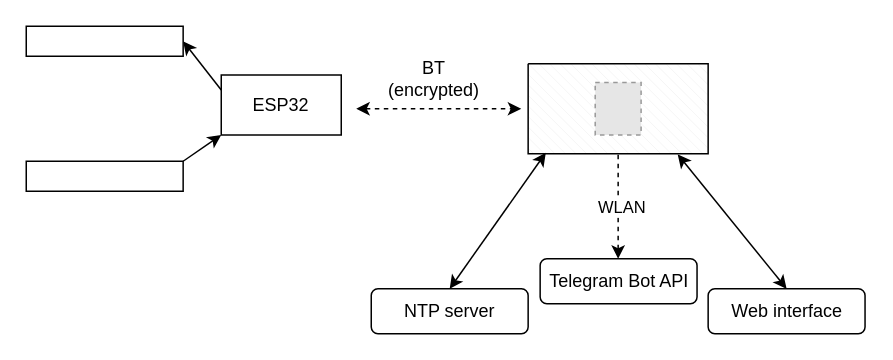
The diagram is 893 pixels wide and 360 high, and some of its shapes have lost their labels. Grey dashed boxes stand in for pictures. The shapes that lost their labels are listed below. From the top down, each one's centre as x and y in pixels, then its label:
the point at 104,40: LED actuator
the point at 104,175: Weight sensor
